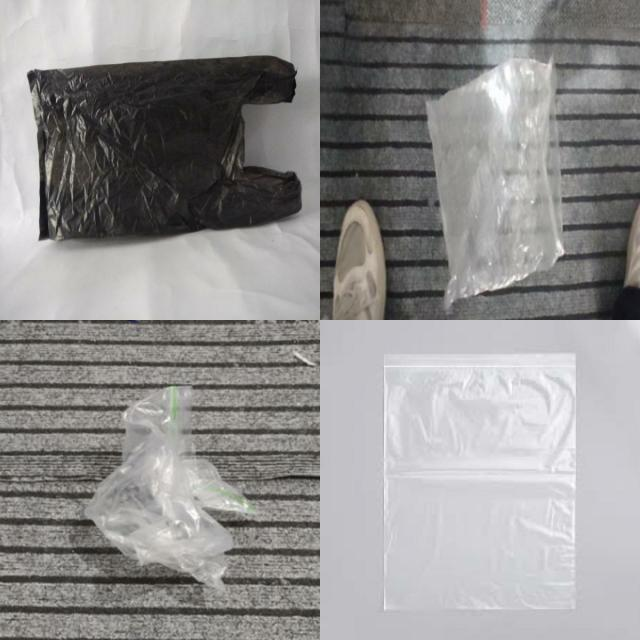Single-layer Plastic: (28, 56, 301, 239), (384, 355, 575, 610), (85, 386, 258, 589), (426, 58, 564, 309)
